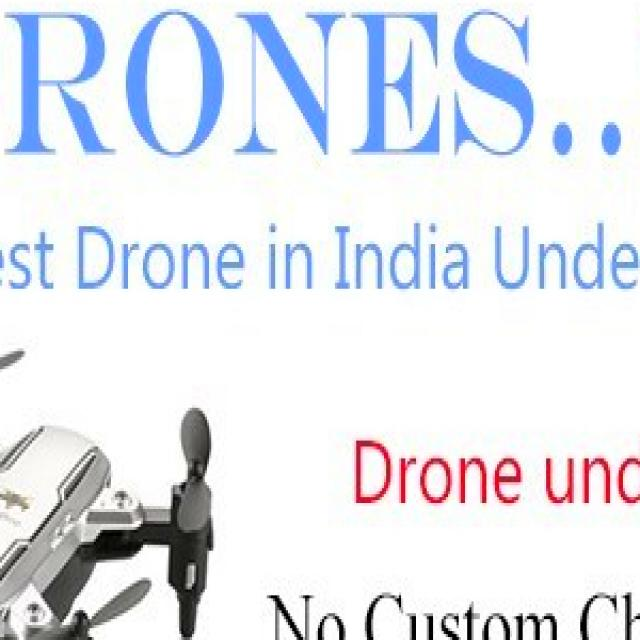drone: (0, 345, 258, 640)
